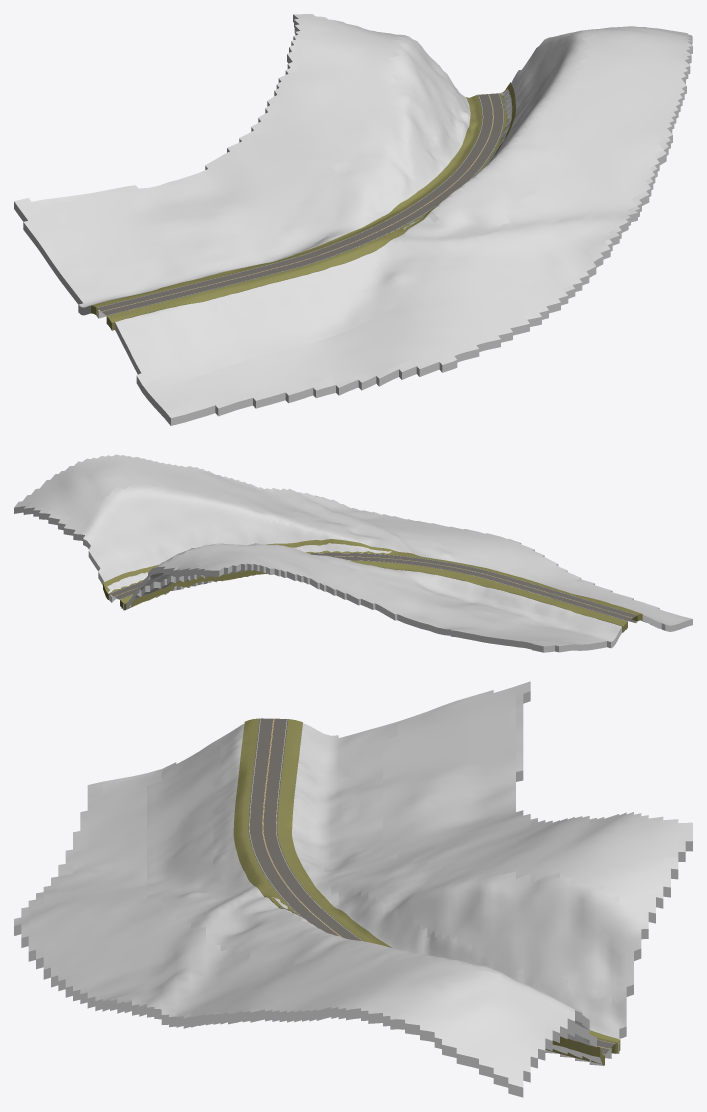
File: conz_31.glb
3 views of the same model, one above another, from view 1: azimuth 30°, elevation 25°; view 2: azimuth 150°, elevation 25°; view 3: azimuth 270°, elevation 25° (orthographic). The views are drawn at different scales.
Parts seen in each view (by area): view 1: terrain31, road31, verge31L, verge31R; view 2: terrain31, road31, verge31R, verge31L; view 3: terrain31, road31, verge31R, verge31L.
Part boxes in pixels (x1,y1,x2,y2): terrain31: (14,14,692,425); road31: (97,93,504,315); verge31L: (106,82,515,330); verge31R: (91,95,481,315); terrain31: (14,454,692,652); road31: (109,552,637,621); verge31R: (120,560,627,632); verge31L: (103,539,642,621); terrain31: (14,681,692,1097); road31: (248,718,614,1054); verge31R: (277,719,620,1053); verge31L: (233,718,604,1065).
Bounding box in the file's own units: 274 × 59.07 × 184.
